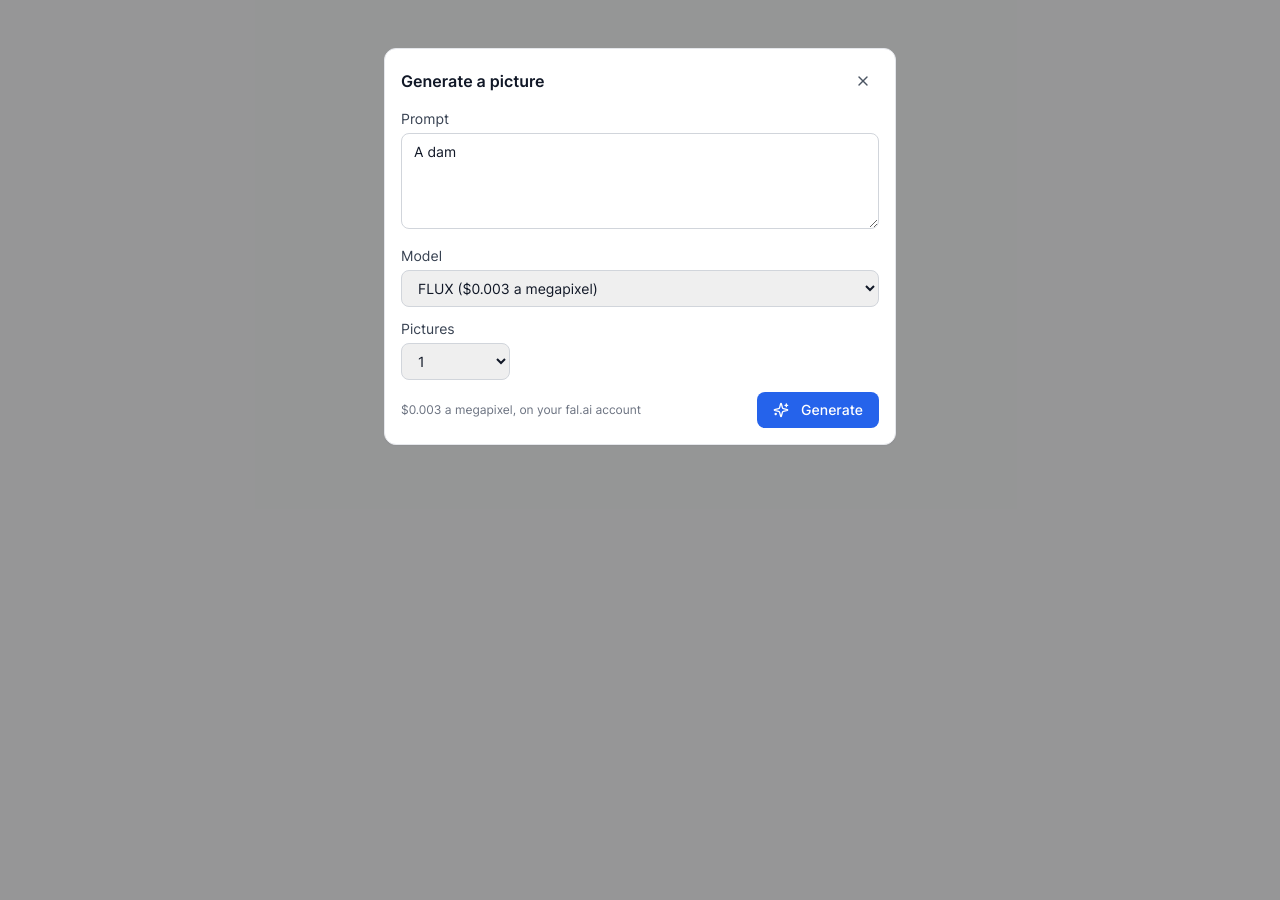
Test: GenerateDialog › says why it could not start, and stays open
Expected: the text "$0.003 a megapixel, on your fal.ai account" is shown, [401, 402, 641, 417]
Click the button "Generate" at [818, 410], box [757, 392, 879, 428]
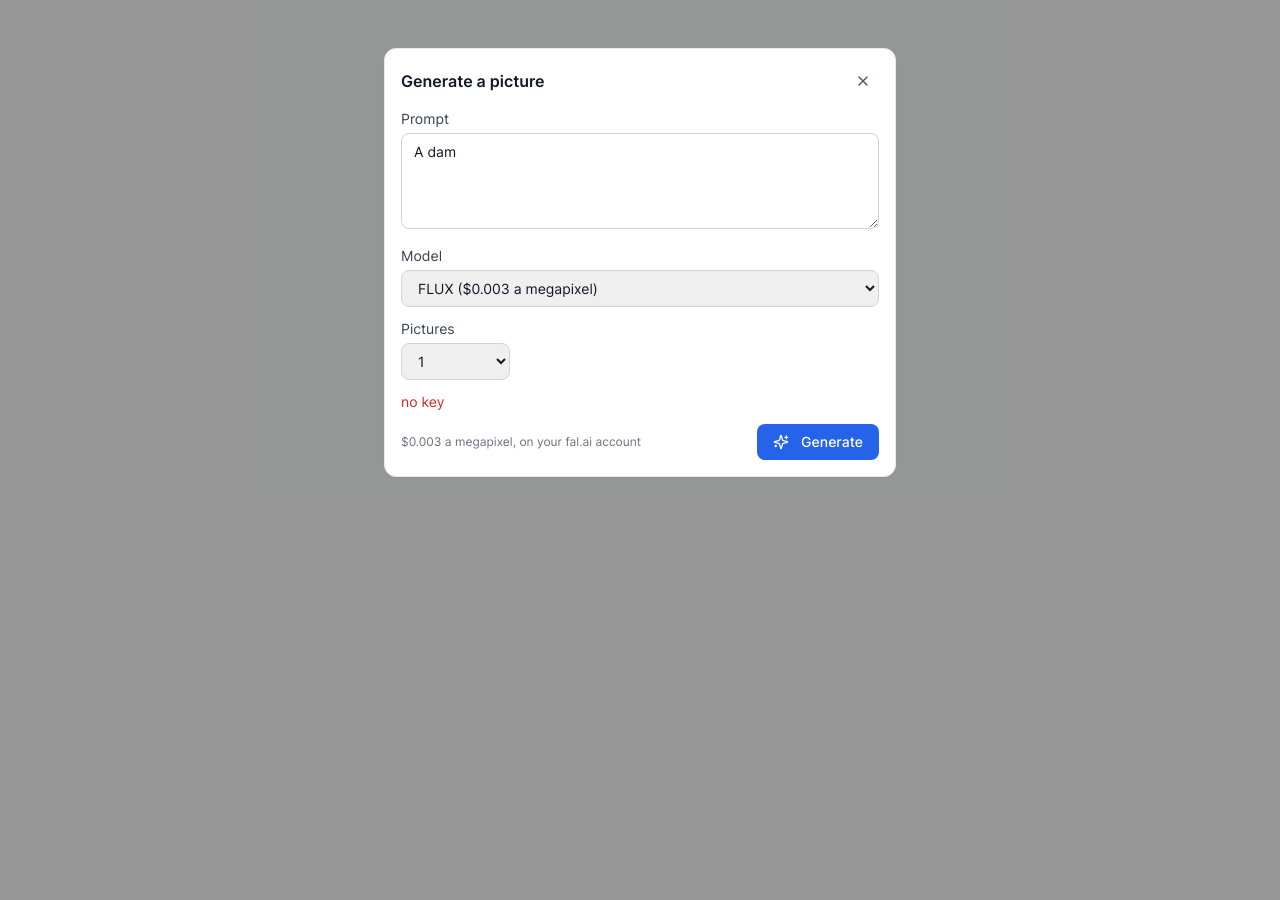
Now the message "no key" is shown, box [401, 393, 444, 410]
